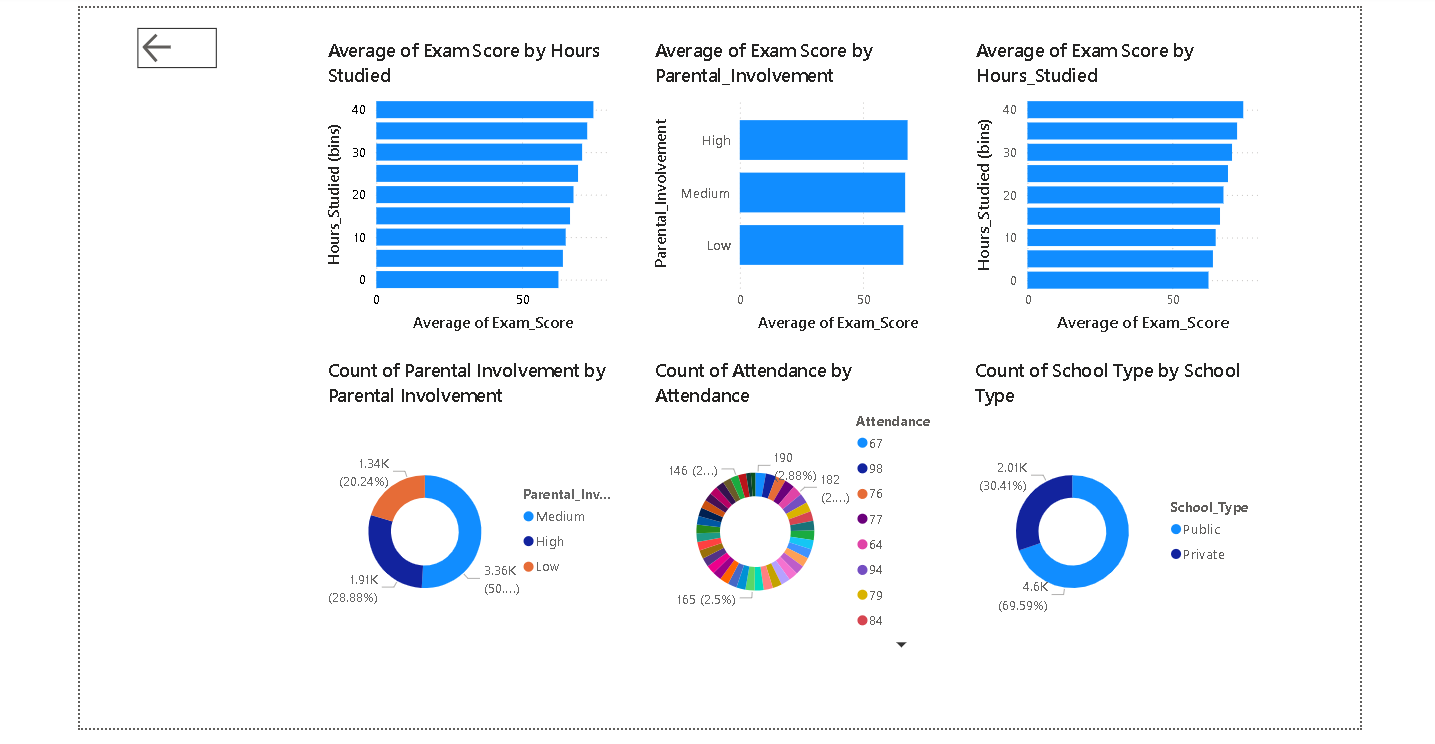

Layout of this report page (visuals, bound fields, positions):
{"tool":"powerbi","page":{"name":"Page 2","canvas":[1280,720],"ordinal":1},"visuals":[{"type":"clusteredBarChart","title":"Average of Exam Score by Hours Studied","fields":{"Y":["Avg(StudentPerformanceFactors.Exam_Score)"],"Category":["StudentPerformanceFactors.Hours_Studied (bins)"]},"box":[242.1,29.2,299.1,300.5],"z":0},{"type":"clusteredBarChart","title":"Average of Exam Score by Parental_Involvement","fields":{"Y":["Avg(StudentPerformanceFactors.Exam_Score)"],"Category":["StudentPerformanceFactors.Parental_Involvement"]},"box":[570.4,29.2,299.1,300.5],"z":1000},{"type":"clusteredBarChart","title":"Average of Exam Score by Hours_Studied","fields":{"Y":["Avg(StudentPerformanceFactors.Exam_Score)"],"Category":["StudentPerformanceFactors.Hours_Studied (bins)"]},"box":[891.8,29.2,299.1,300.5],"z":2000},{"type":"donutChart","title":"Count of Parental Involvement by Parental Involvement","fields":{"Category":["StudentPerformanceFactors.Parental_Involvement"],"Y":["CountNonNull(StudentPerformanceFactors.Parental_Involvement)"]},"box":[242.1,349.2,299.1,300.5],"z":3000},{"type":"donutChart","fields":{"Category":["StudentPerformanceFactors.Attendance"],"Y":["CountNonNull(StudentPerformanceFactors.Attendance)"]},"box":[570.4,349.2,299.1,300.5],"z":4000},{"type":"donutChart","title":"Count of School Type by School Type","fields":{"Category":["StudentPerformanceFactors.School_Type"],"Y":["CountNonNull(StudentPerformanceFactors.School_Type)"]},"box":[890.4,349.2,299.1,300.5],"z":5000},{"type":"actionButton","box":[57,19.5,79.3,40.3],"z":6000}]}

Visuals, with their boxes on the page's 1280x720 design canvas (x1, y1, x2, y2). These are canvas units, not pixel positions in the 1435x744 screenshot, which may show the page scaled, cropped or inside an application window:
"Average of Exam Score by Hours Studied" clusteredBarChart: left=242, top=29, right=541, bottom=330
"Average of Exam Score by Parental_Involvement" clusteredBarChart: left=570, top=29, right=870, bottom=330
"Average of Exam Score by Hours_Studied" clusteredBarChart: left=892, top=29, right=1191, bottom=330
"Count of Parental Involvement by Parental Involvement" donutChart: left=242, top=349, right=541, bottom=650
donutChart - StudentPerformanceFactors.Attendance x CountNonNull(StudentPerformanceFactors.Attendance): left=570, top=349, right=870, bottom=650
"Count of School Type by School Type" donutChart: left=890, top=349, right=1190, bottom=650
actionButton: left=57, top=20, right=136, bottom=60
